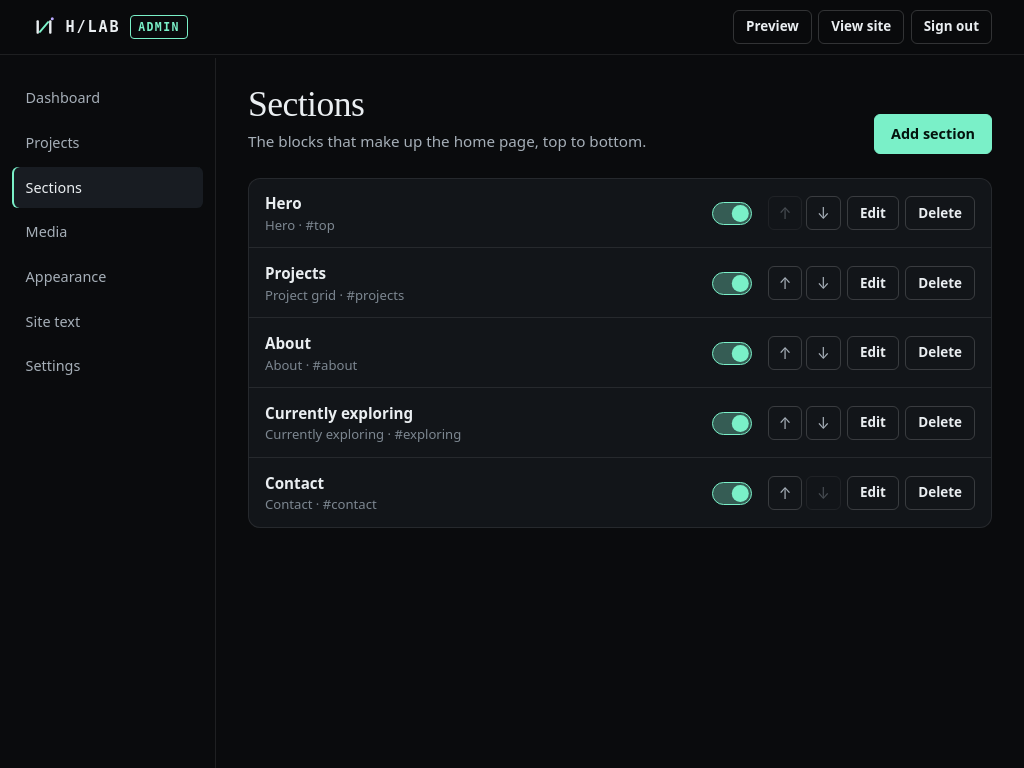
sections editor › hides, shows and reorders sections
Check: the heading "Sections" is shown, box [248, 84, 364, 124]
Click the switch labelled "Show Currently exploring on the site": point(732, 424) [712, 412, 752, 435]
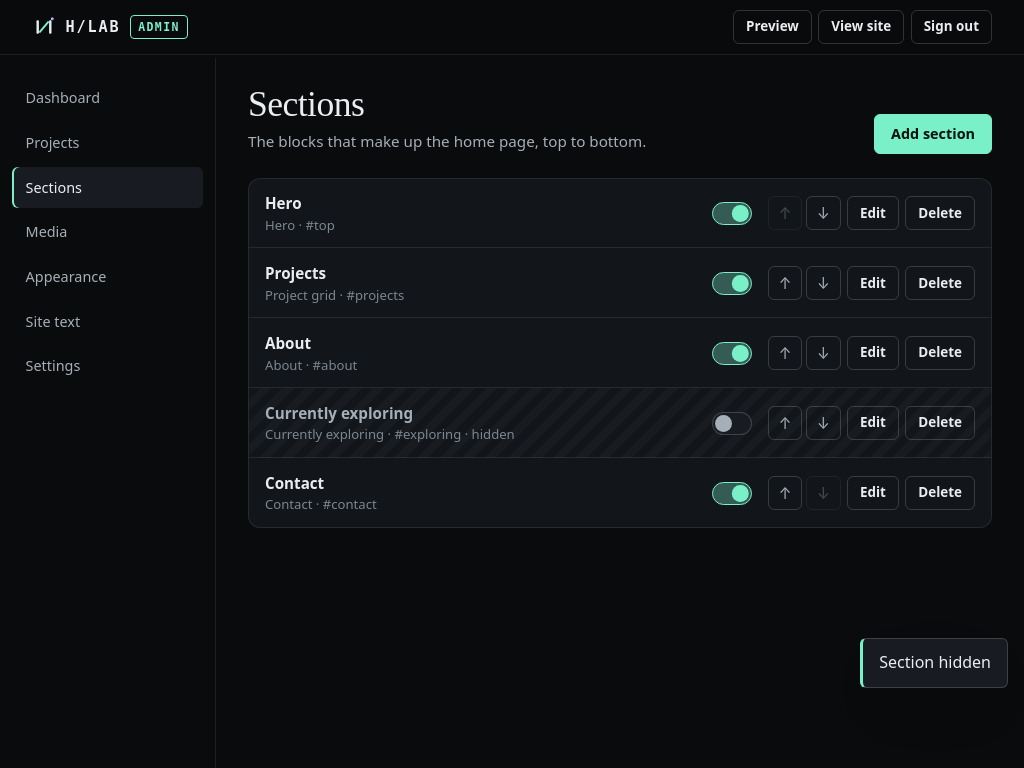
Check: the text "Section hidden" is shown, box [860, 638, 1008, 688]
Click the button named "Move About up": point(785, 353) [768, 336, 802, 370]
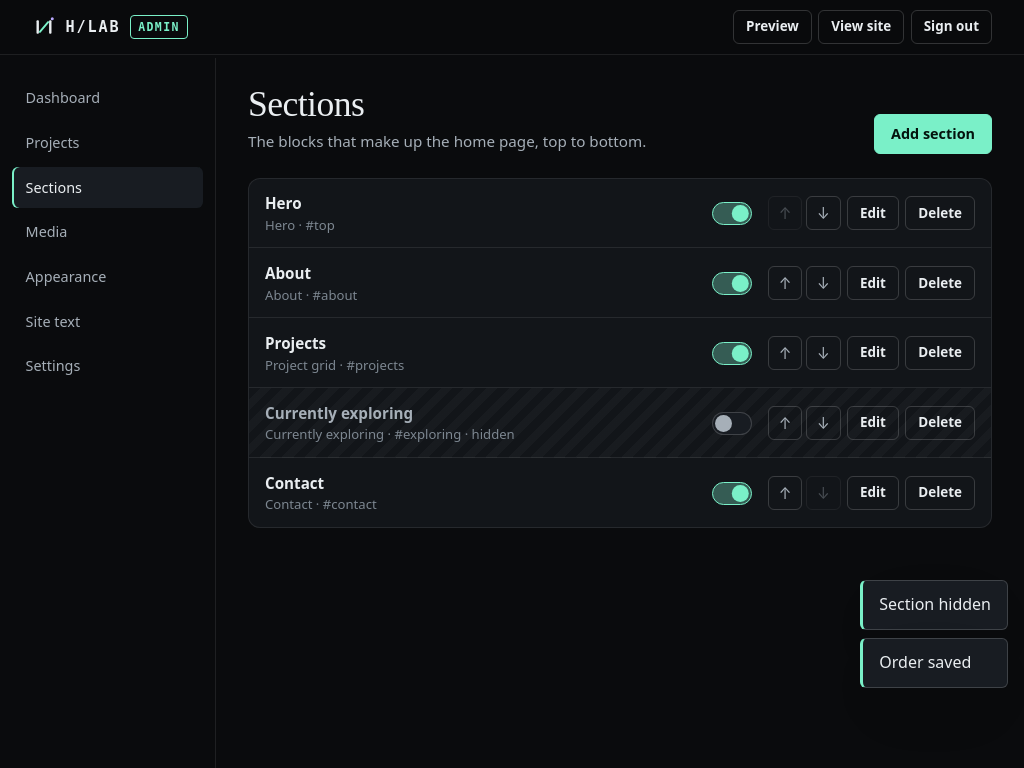
Check: the text "Order saved" is shown, box [860, 638, 1008, 688]
